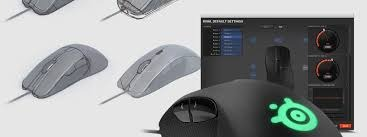mouse: (156, 76, 346, 137), (15, 40, 109, 102), (122, 41, 199, 99)
